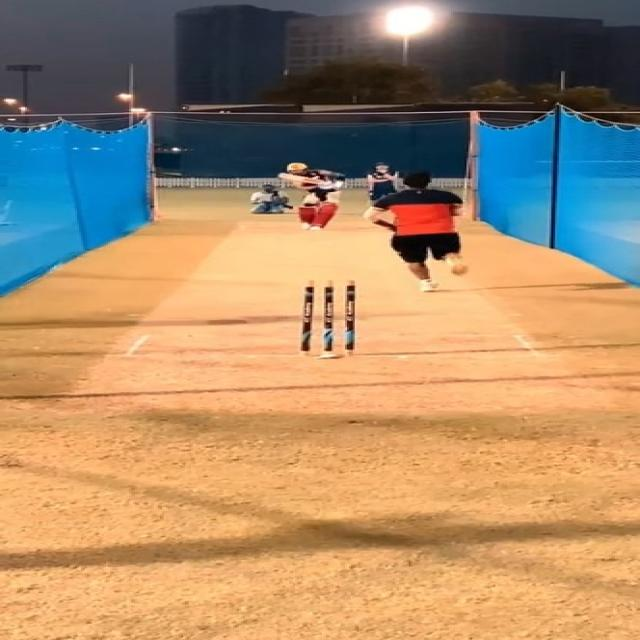batsman: (277, 162, 348, 231)
